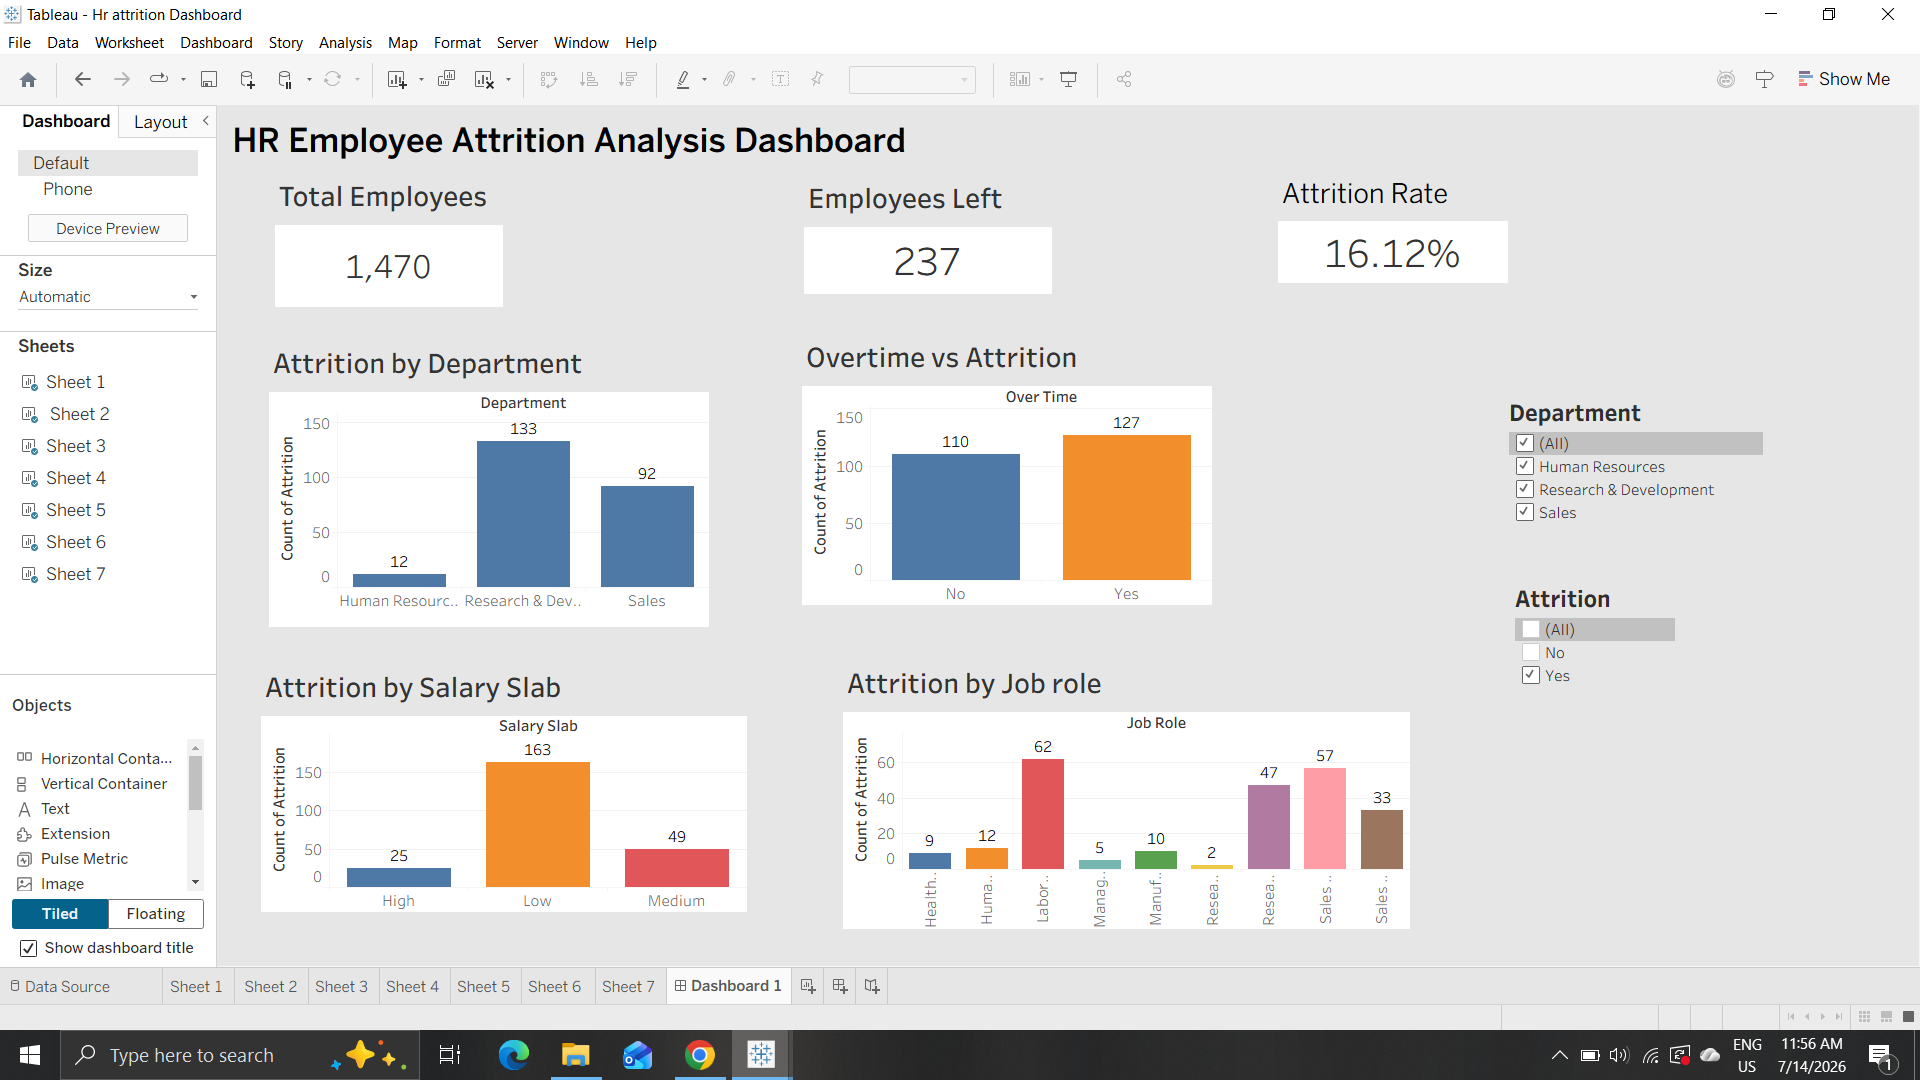

The dashboard page shown, as its layout file describes it:
{"tool":"tableau","page":{"name":"Dashboard 1","canvas":[1000,1000],"units":"permille","ordinal":0},"visuals":[{"type":"title","box":[4.8,9.3,990.3,65]},{"type":"worksheet","title":" Sheet 2","mark":"Automatic","box":[623.4,77.8,135.1,128.9]},{"type":"worksheet","title":"Sheet 1","mark":"Automatic","box":[34.1,79,134,155.6]},{"type":"worksheet","title":"Sheet 3","mark":"Automatic","box":[344.9,81.3,145.7,138.2]},{"type":"worksheet","title":"Sheet 5","mark":"Automatic","rows":["Attrition"],"cols":["OverTime"],"box":[343.7,266,240.9,314.8]},{"type":"worksheet","title":"Sheet 4","mark":"Automatic","rows":["Attrition"],"cols":["Department"],"box":[30.6,272.9,258.5,333.3]},{"type":"filter","title":"Sheet 4","param":"[federated.0etrc500z7g3ai1a5vnc60d8x5t5].[none:Department:nk]","box":[759.1,338,149.2,156.8]},{"type":"filter","title":"Sheet 6 ","param":"[federated.0etrc500z7g3ai1a5vnc60d8x5t5].[none:Attrition:nk]","box":[762.6,554,94,141.7]},{"type":"worksheet","title":"Sheet 6 ","mark":"Automatic","rows":["Attrition"],"cols":["JobRole"],"box":[367.8,644.6,333.1,312.4]},{"type":"worksheet","title":"Sheet 7","mark":"Automatic","rows":["Attrition"],"cols":["Calculation_0982709930115078"],"box":[25.9,649.2,285.6,288]}]}

Visuals, with their boxes on the dashboard's canvas, which has no fixed pixel size, in thousandths of its width and height (x1, y1, x2, y2). These are canvas units, not pixel positions in the 1920x1080 screenshot, which may show the page scaled, cropped or inside an application window:
title: Rect(5, 9, 995, 74)
" Sheet 2" worksheet: Rect(623, 78, 758, 207)
"Sheet 1" worksheet: Rect(34, 79, 168, 235)
"Sheet 3" worksheet: Rect(345, 81, 491, 220)
"Sheet 5" worksheet: Rect(344, 266, 585, 581)
"Sheet 4" worksheet: Rect(31, 273, 289, 606)
"Sheet 4" filter: Rect(759, 338, 908, 495)
"Sheet 6 " filter: Rect(763, 554, 857, 696)
"Sheet 6 " worksheet: Rect(368, 645, 701, 957)
"Sheet 7" worksheet: Rect(26, 649, 312, 937)
